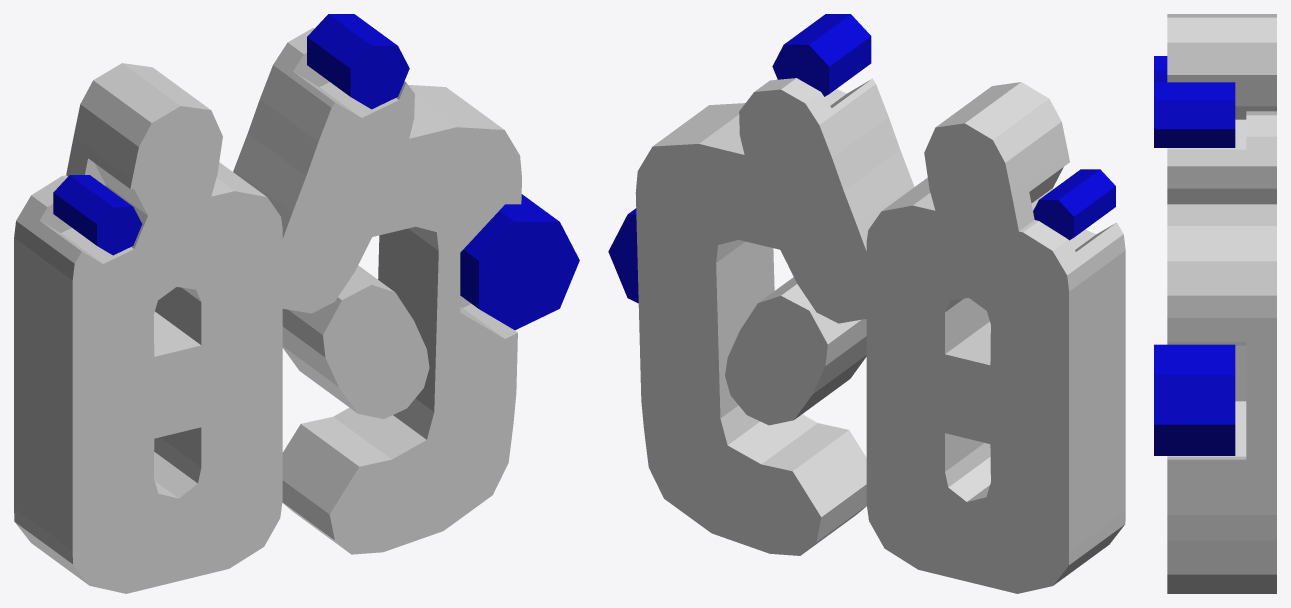
File: Ch_Lite_China_的_01.fbx
3 renders of one model, left to right at view 1: azimuth 30°, elevation 25°; view 2: azimuth 150°, elevation 25°; view 3: azimuth 270°, elevation 25°, orthographic. The views are drawn at different scales.
Parts seen in each view (by area): view 1: sphere1; view 2: sphere1; view 3: sphere1.
Part boxes in pixels (left/top/right/bottom): sphere1: left=14, top=14, right=579, bottom=593; sphere1: left=608, top=14, right=1125, bottom=593; sphere1: left=1154, top=14, right=1276, bottom=593.
Size of the model in its own units: 0.9846 by 0.9709 by 0.2242.
